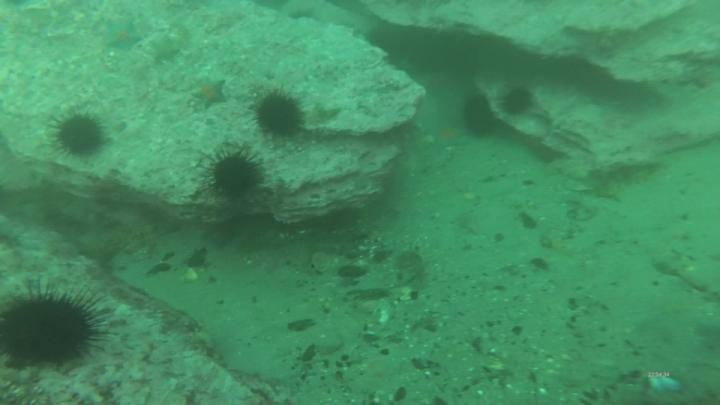echinus: (2, 299, 97, 366), (56, 116, 106, 153), (214, 156, 260, 196), (255, 96, 302, 135), (465, 96, 496, 136), (508, 92, 534, 114)
starfish: (107, 22, 143, 49), (438, 124, 467, 150), (195, 83, 225, 105)
